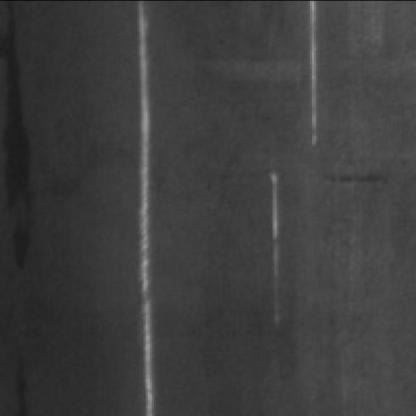inclusion: (314, 163, 391, 187)
scratches: (125, 4, 164, 414), (298, 0, 322, 144), (260, 166, 279, 320)
